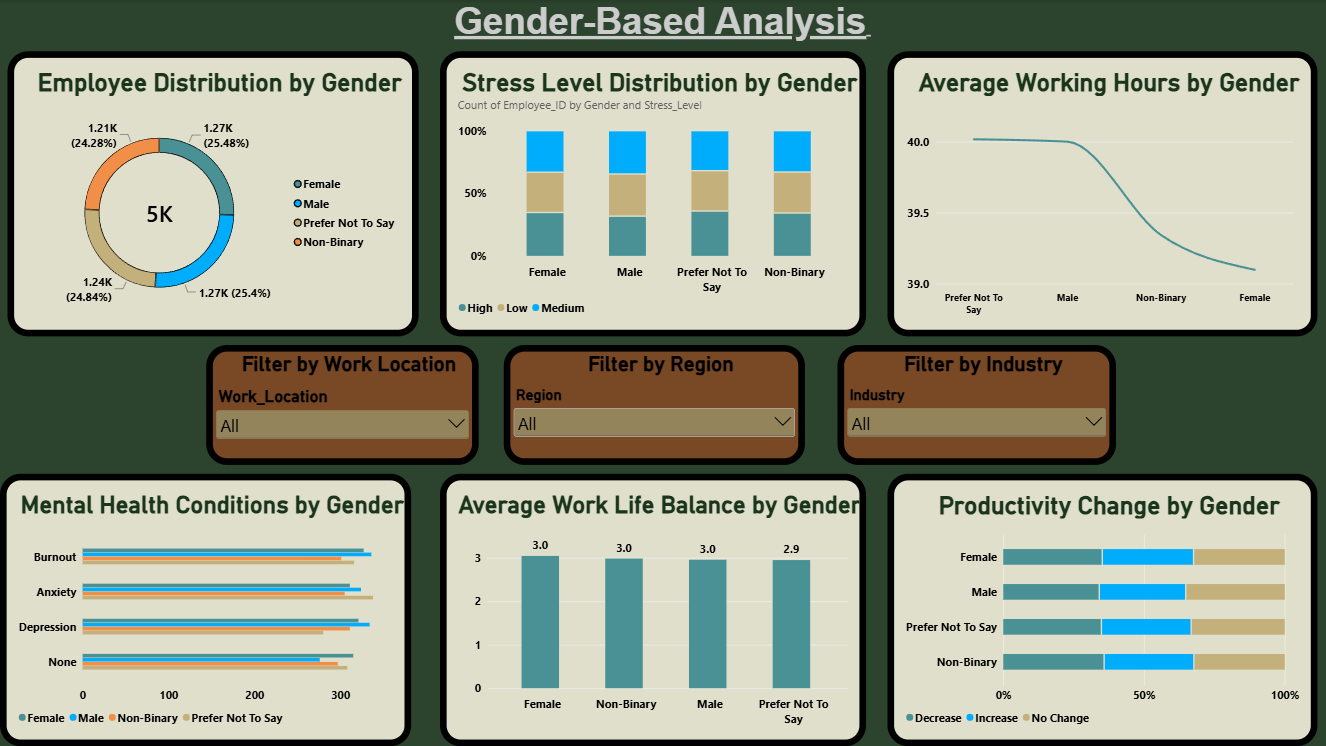

The page's visual inventory and layout, read from the dashboard file:
{"tool":"powerbi","page":{"name":"Gender Based Analysis","canvas":[1920,1080],"ordinal":2},"visuals":[{"type":"textbox","box":[10.9,0,1896.5,74.2],"z":0},{"type":"donutChart","title":"Employee Distribution by Gender","fields":{"Category":["Cleaned_Data1.Gender"],"Y":["CountNonNull(Cleaned_Data1.Employee_ID)"]},"box":[10.9,74.2,595.4,412.6],"z":1},{"type":"hundredPercentStackedColumnChart","title":"Stress Level Distribution by Gender","fields":{"Category":["Cleaned_Data1.Gender"],"Series":["Cleaned_Data1.Stress_Level"],"Y":["CountNonNull(Cleaned_Data1.Employee_ID)"]},"box":[637,74.2,617.1,412.6],"z":2},{"type":"clusteredBarChart","title":"Mental Health Conditions by Gender","fields":{"Category":["Cleaned_Data1.Mental_Health_Condition"],"Series":["Cleaned_Data1.Gender"],"Y":["Count(Cleaned_Data1.Employee_ID)"]},"box":[0,685.9,595.4,394.5],"z":3},{"type":"clusteredColumnChart","title":"Average Work Life Balance by Gender","fields":{"Category":["Cleaned_Data1.Gender"],"Y":["Cleaned_Data1.Average_Work_Life_Balance"]},"box":[637,685.9,617.1,394.5],"z":4},{"type":"lineChart","title":"Average Working Hours by Gender","fields":{"Category":["Cleaned_Data1.Gender"],"Y":["Cleaned_Data1.Average_Weekly_Hours"]},"box":[1284.9,74.2,622.5,412.6],"z":5},{"type":"hundredPercentStackedBarChart","title":"Productivity Change by Gender","fields":{"Category":["Cleaned_Data1.Gender"],"Series":["Cleaned_Data1.Productivity_Change"],"Y":["Count(Cleaned_Data1.Employee_ID)"]},"box":[1284.9,685.9,622.5,394.5],"z":6},{"type":"slicer","title":"Filter by Region","fields":{"Values":["Cleaned_Data1.Region"]},"box":[729.3,499.5,436.1,173.7],"z":10},{"type":"slicer","title":"Filter by Work Location","fields":{"Values":["Cleaned_Data1.Work_Location"]},"box":[298.6,499.5,394.5,173.7],"z":11},{"type":"slicer","title":"Filter by Industry","fields":{"Values":["Cleaned_Data1.Industry"]},"box":[1212.5,499.5,403.6,173.7],"z":12}]}

Visuals, with their boxes in screenshot pixels (x1, y1, x2, y2), scaled from the page's 1920x1080 canvas onto the 1326x746 screenshot:
textbox: {"left": 8, "top": 0, "right": 1317, "bottom": 51}
"Employee Distribution by Gender" donutChart: {"left": 8, "top": 51, "right": 419, "bottom": 336}
"Stress Level Distribution by Gender" hundredPercentStackedColumnChart: {"left": 440, "top": 51, "right": 866, "bottom": 336}
"Mental Health Conditions by Gender" clusteredBarChart: {"left": 0, "top": 474, "right": 411, "bottom": 745}
"Average Work Life Balance by Gender" clusteredColumnChart: {"left": 440, "top": 474, "right": 866, "bottom": 745}
"Average Working Hours by Gender" lineChart: {"left": 887, "top": 51, "right": 1317, "bottom": 336}
"Productivity Change by Gender" hundredPercentStackedBarChart: {"left": 887, "top": 474, "right": 1317, "bottom": 745}
"Filter by Region" slicer: {"left": 504, "top": 345, "right": 805, "bottom": 465}
"Filter by Work Location" slicer: {"left": 206, "top": 345, "right": 479, "bottom": 465}
"Filter by Industry" slicer: {"left": 837, "top": 345, "right": 1116, "bottom": 465}
